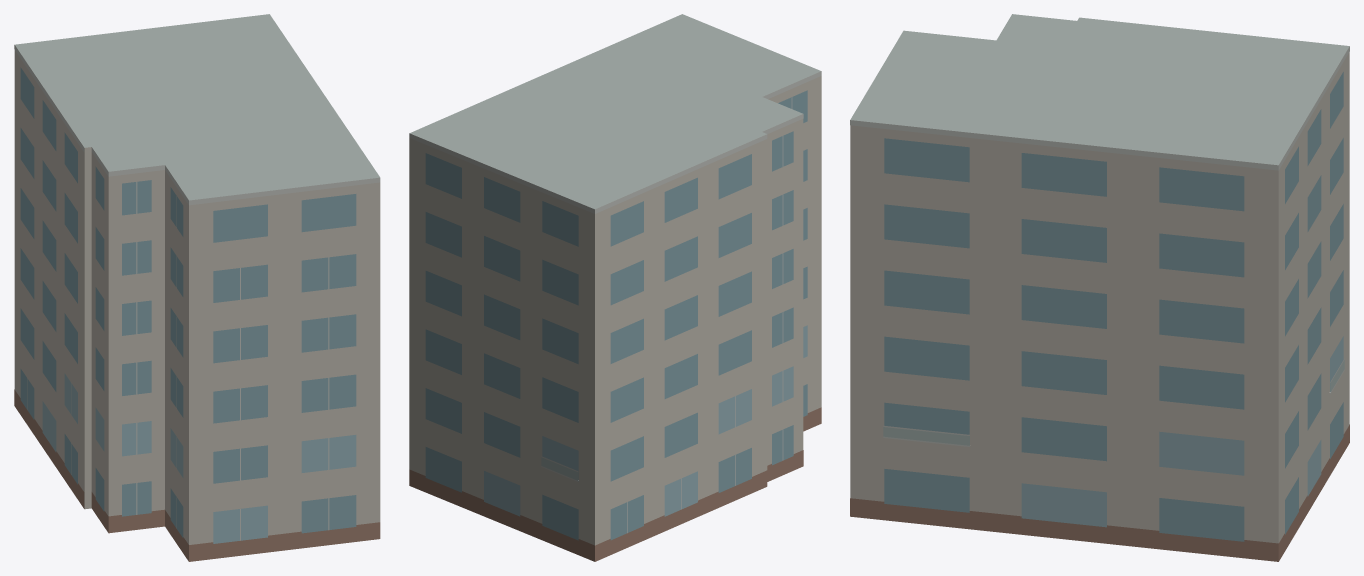
Rendered from survey-upis-32658155.glb.
The picture shows the model from 3 angles, left to right: view 1: azimuth 30°, elevation 25°; view 2: azimuth 150°, elevation 25°; view 3: azimuth 270°, elevation 25°; orthographic projection. The views are drawn at different scales.
Parts seen in each view (by area): view 1: survey-upis-32658155.tmp; view 2: survey-upis-32658155.tmp; view 3: survey-upis-32658155.tmp.
Boxes of the visible parts, x1,y1,x2,y2 form: survey-upis-32658155.tmp: (14, 14, 380, 561); survey-upis-32658155.tmp: (409, 14, 821, 561); survey-upis-32658155.tmp: (850, 14, 1349, 561).
Bounding box in the file's own units: 14.98 × 18.3 × 20.91.
